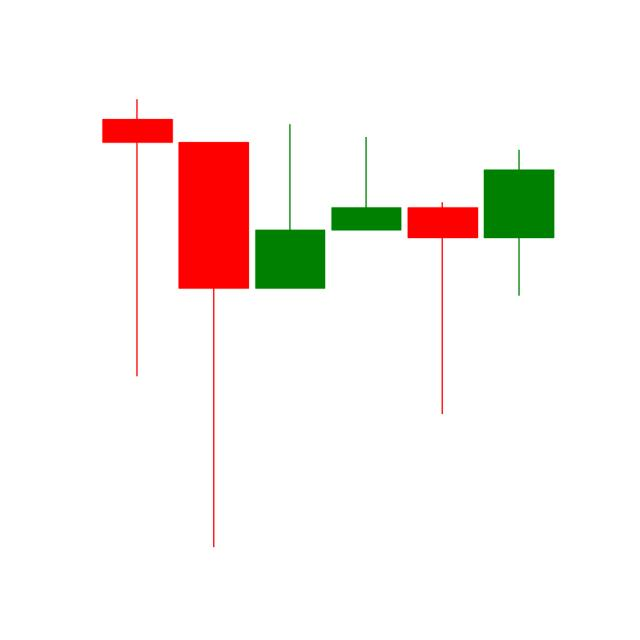Hanging Man: (175, 137, 252, 555), (90, 96, 176, 391), (406, 198, 480, 424)
Inverted Hammer: (254, 120, 329, 293), (330, 122, 403, 232)
